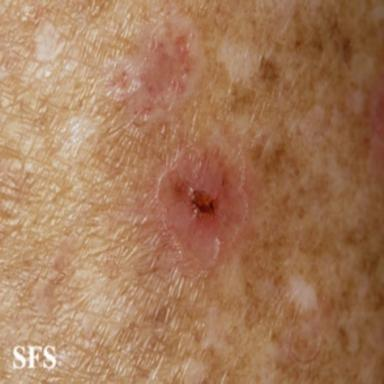Porokeratosis: (158, 148, 247, 269), (109, 16, 194, 121)
